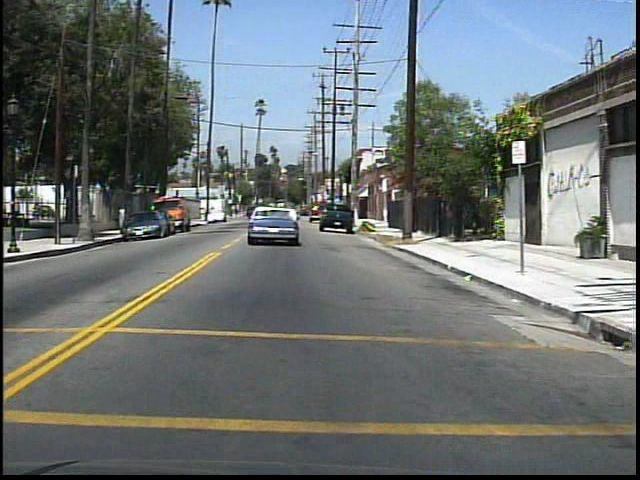person: (30, 199, 46, 224), (80, 197, 94, 225), (119, 202, 127, 231)
